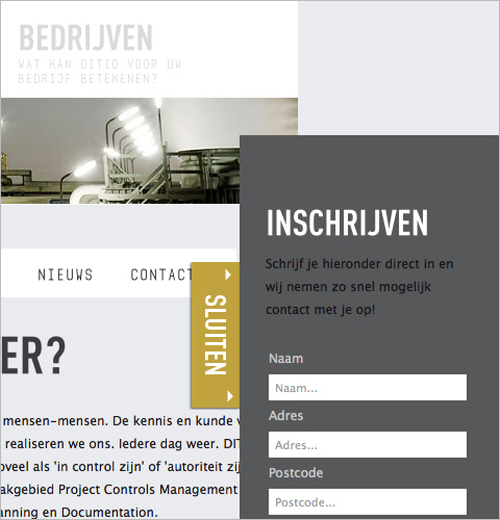_form_: (230, 315, 498, 520)
field: (267, 429, 468, 459), (268, 372, 468, 402), (268, 487, 468, 516)
